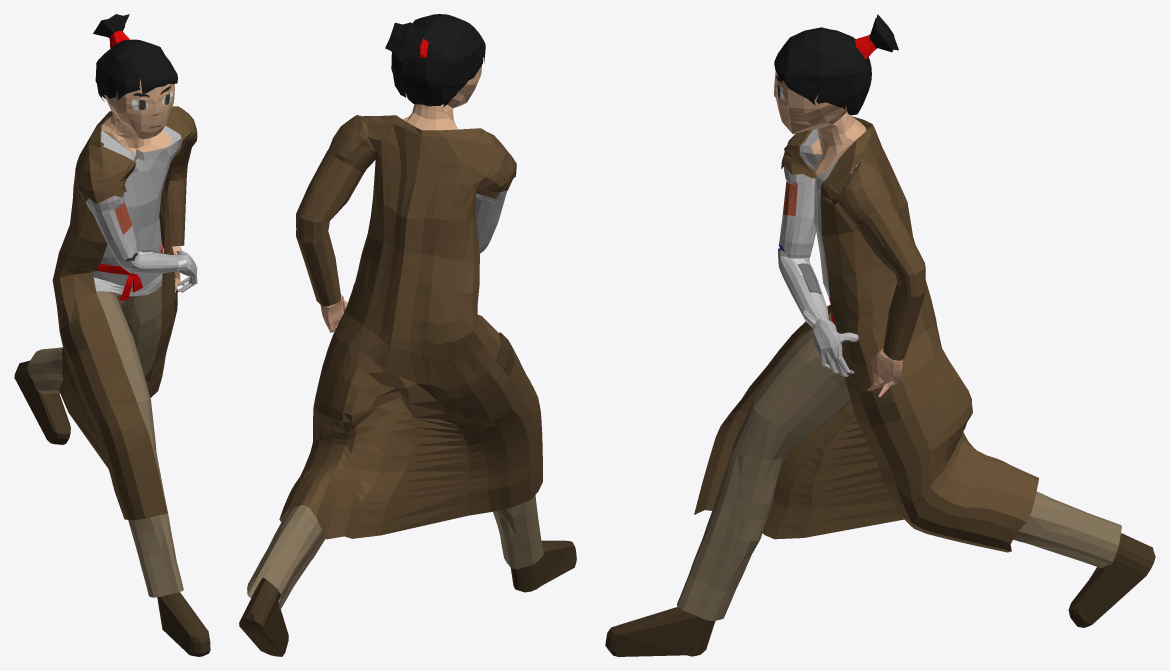
The model's file is One_RF_000001.obj.
3 renders of one model, left to right at view 1: azimuth 30°, elevation 25°; view 2: azimuth 150°, elevation 25°; view 3: azimuth 270°, elevation 25°, orthographic. The views are drawn at different scales.
Visible parts, largest first — view 1: Hair_Cube.004; view 2: Hair_Cube.004; view 3: Hair_Cube.004.
Part boxes in pixels (x1,y1,x2,y2): Hair_Cube.004: (14, 14, 210, 656); Hair_Cube.004: (239, 14, 576, 656); Hair_Cube.004: (605, 14, 1155, 656).
Bounding box in the file's own units: 1.09 × 3.75 × 2.88.
